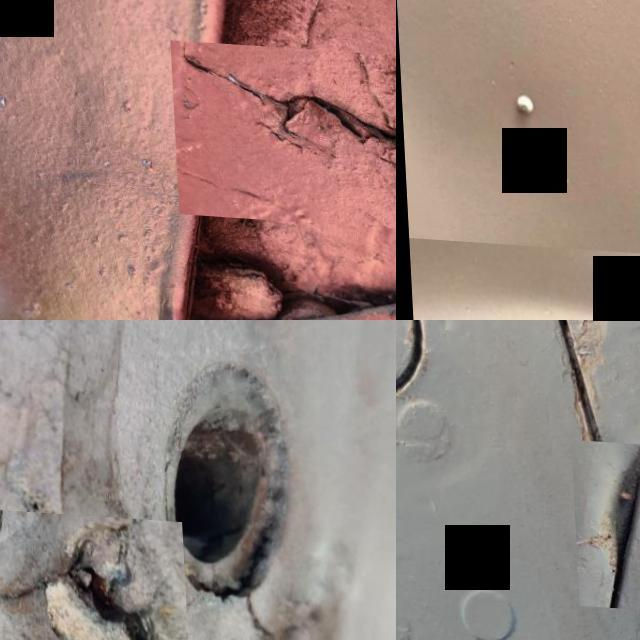Crack: (168, 37, 396, 228), (0, 506, 187, 640)
Dent: (406, 244, 640, 320), (568, 435, 640, 606)
